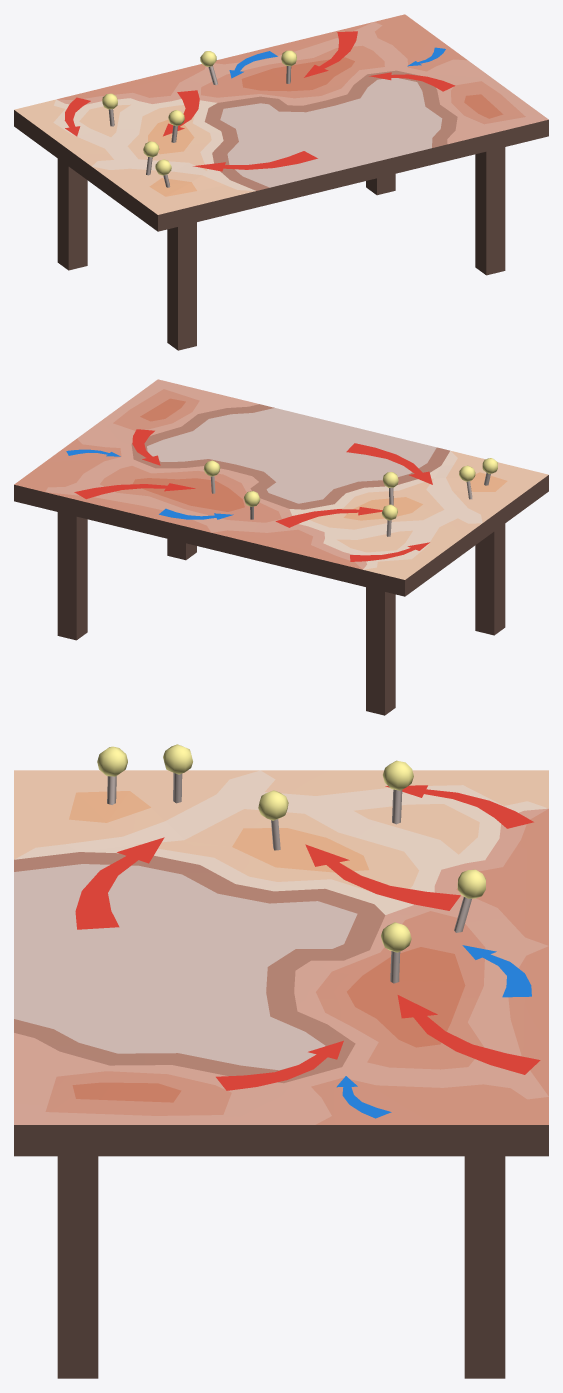
File: Table_002.glb
The picture shows the model from 3 angles, top to bottom: view 1: azimuth 30°, elevation 25°; view 2: azimuth 150°, elevation 25°; view 3: azimuth 270°, elevation 25°; orthographic projection. The views are drawn at different scales.
Parts seen in each view (by area): view 1: Table_002; view 2: Table_002; view 3: Table_002.
Boxes of the visible parts, bbox=[...] form: Table_002: bbox=[14, 14, 548, 350]; Table_002: bbox=[14, 379, 548, 715]; Table_002: bbox=[14, 744, 548, 1378].
Bounding box in the file's own units: 2.07 × 0.9299 × 1.32.
Materials: 1 (1 with a texture image).
